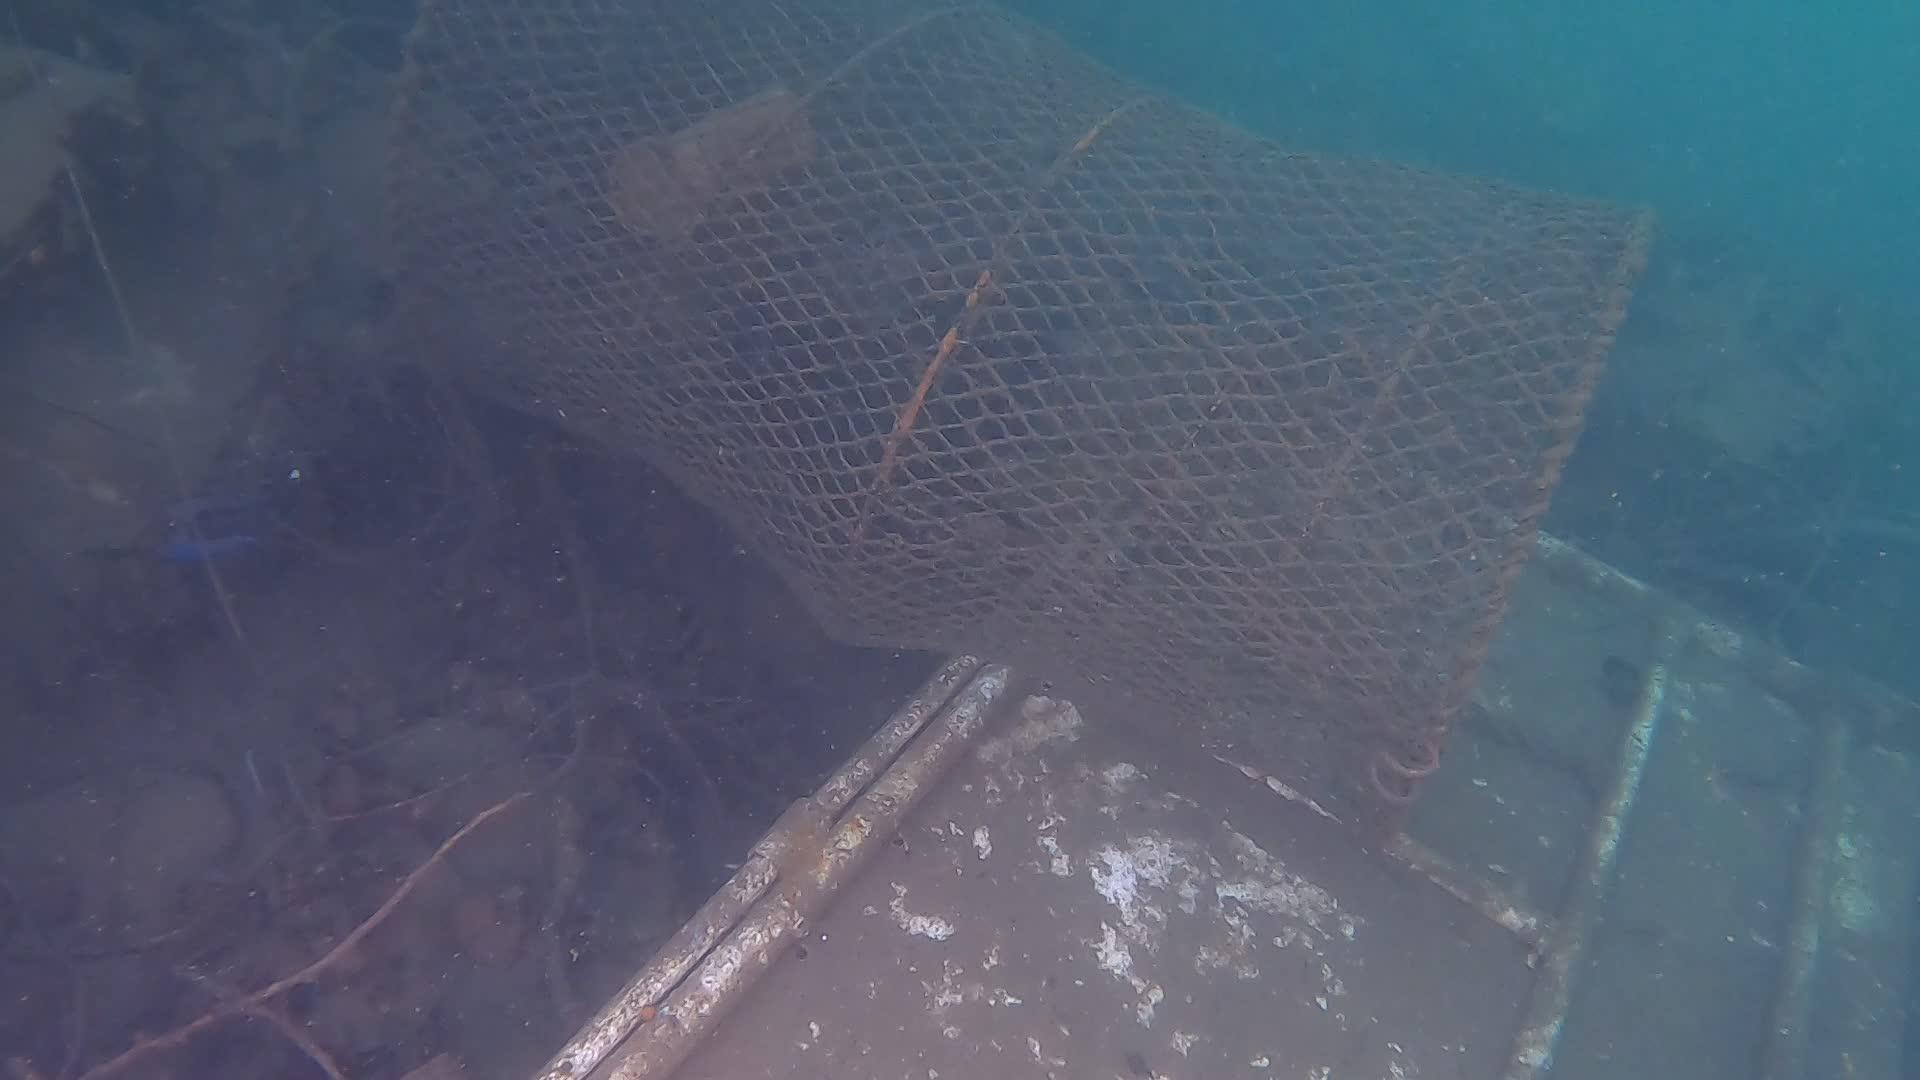spring fish trap: (384, 0, 1656, 829)
